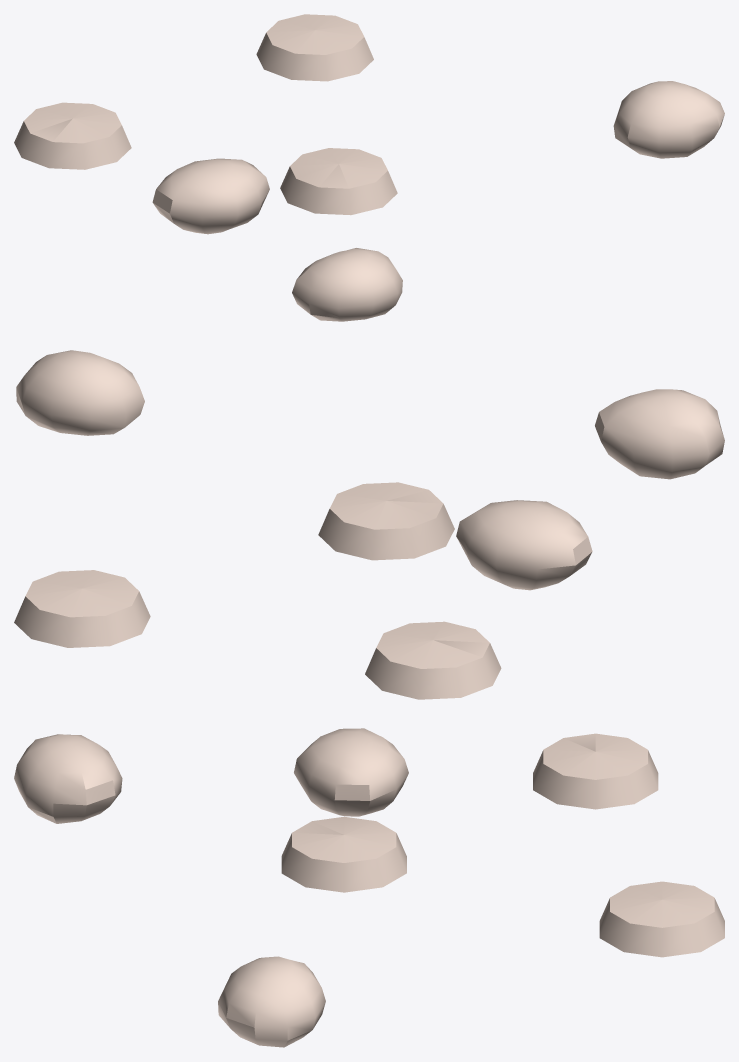
File: shells.glb
3 renders of one model, top to bottom at view 1: azimuth 30°, elevation 25°; view 2: azimuth 150°, elevation 25°; view 3: azimuth 270°, elevation 25°, orthographic. The views are drawn at different scales.
Visible parts, largest first — view 1: boat_shellp; view 2: boat_shellp; view 3: boat_shellp.
Boxes of the visible parts, bbox=[...] form: boat_shellp: bbox=[14, 14, 724, 321]; boat_shellp: bbox=[14, 350, 724, 699]; boat_shellp: bbox=[14, 728, 724, 1047].
Size of the model in its own units: 0.6437 by 0.0749 by 0.6473.
